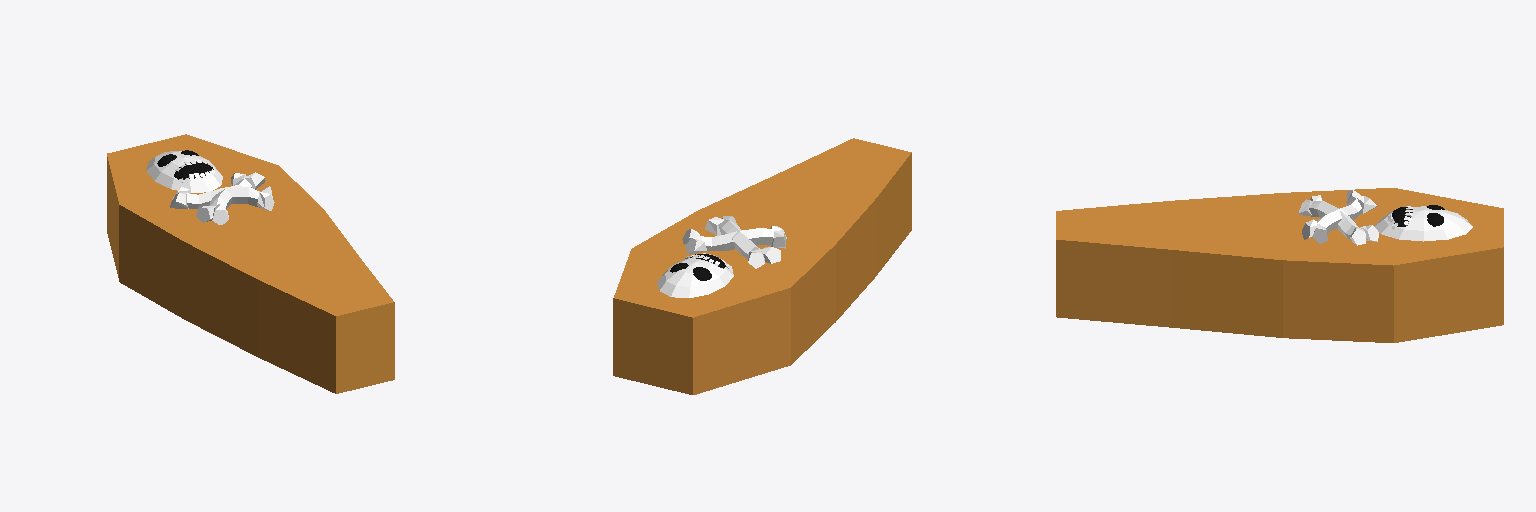
The model's file is Coffin.obj.
The picture shows the model from 3 angles: view 1: azimuth 30°, elevation 25°; view 2: azimuth 150°, elevation 25°; view 3: azimuth 270°, elevation 25°; orthographic projection.
Parts seen in each view (by area): view 1: group[number redacted], group[number redacted], group[number redacted]; view 2: group[number redacted], group[number redacted], group[number redacted], group[number redacted]; view 3: group[number redacted], group[number redacted], group[number redacted], group[number redacted].
Boxes of the visible parts, x1,y1,x2,y2 form: group[number redacted]: [107, 134, 394, 393]; group[number redacted]: [146, 151, 222, 192]; group[number redacted]: [187, 187, 259, 208]; group[number redacted]: [613, 138, 911, 394]; group[number redacted]: [657, 258, 733, 297]; group[number redacted]: [701, 228, 773, 250]; group[number redacted]: [718, 219, 759, 258]; group[number redacted]: [1056, 188, 1503, 342]; group[number redacted]: [1374, 206, 1472, 241]; group[number redacted]: [1309, 200, 1358, 239]; group[number redacted]: [1317, 199, 1361, 233].
Bounding box in the file's own units: 0.3 × 0.1743 × 0.73.